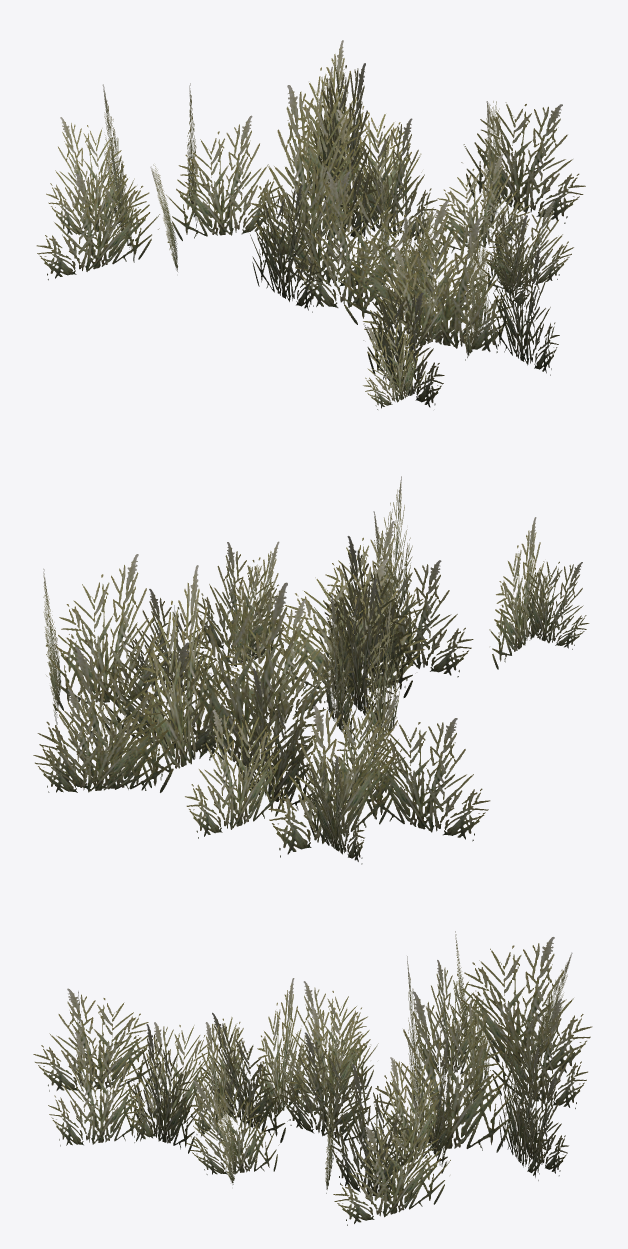
File: DN_grass15e.FBX
The picture shows the model from 3 angles, top to bottom: view 1: azimuth 30°, elevation 25°; view 2: azimuth 150°, elevation 25°; view 3: azimuth 270°, elevation 25°; orthographic projection. The views are drawn at different scales.
Parts seen in each view (by area): view 1: DN_grass15e; view 2: DN_grass15e; view 3: DN_grass15e.
Part boxes in pixels (bbox=[...]): DN_grass15e: bbox=[36, 40, 585, 409]; DN_grass15e: bbox=[33, 476, 589, 864]; DN_grass15e: bbox=[33, 931, 592, 1225].
Size of the model in its own units: 214 by 72.79 by 233.
